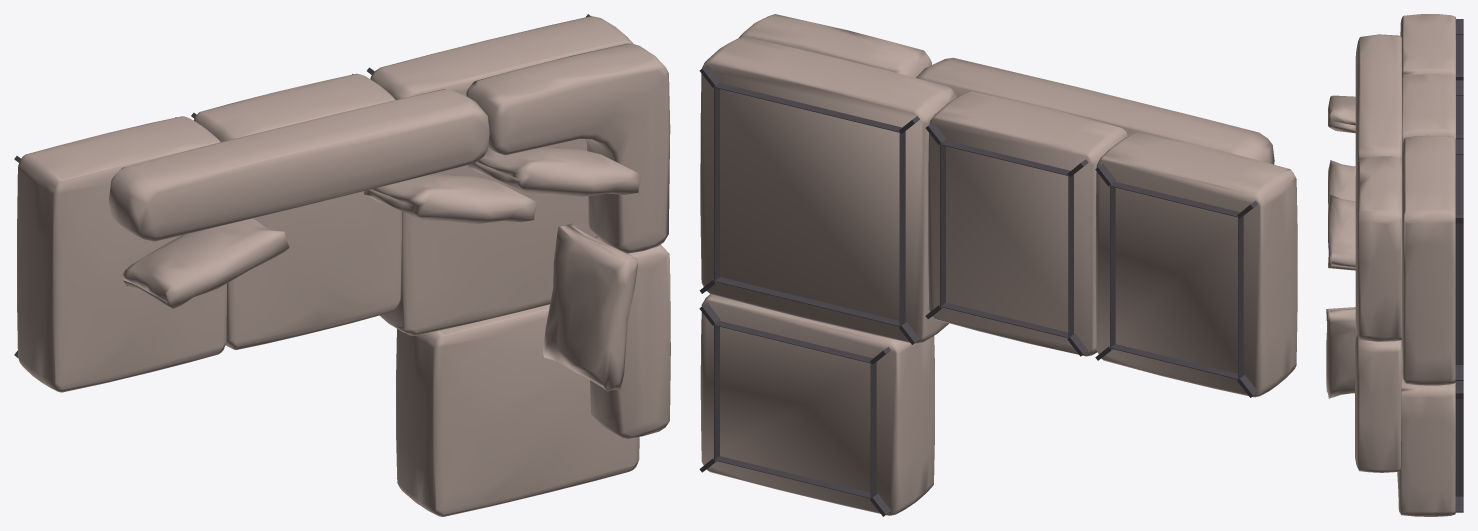
Rendered from Parrot.glb.
The picture shows the model from 3 angles, left to right: view 1: azimuth 30°, elevation 25°; view 2: azimuth 150°, elevation 25°; view 3: azimuth 270°, elevation 25°; orthographic projection. The views are drawn at different scales.
Parts seen in each view (by area): view 1: L_594b06c4_63f0_485b_8664_5ccdcf2e993d_I14, L_8cf35c48_3239_4f79_9a22_60aa4dd015a3_I20, L_2614d5d7_c631_4aa6_94bc_edb34c78e4ee_I9, L_efd06f64_41bd_460b_8718_c4c33e4c71d6_I31, L_261ee8a2_78b9_47fb_a6fe_fc62199f7588_I10, L_221fb735_03ea_4fa2_a80d_ea1f8b97598d_I7, L_029ab708_6cad_4b00_af2a_f2933ccbcbb8_I3, L_dd7c1530_8edc_4b20_8405_1316ed271719_I28, L_0046bf21_b53f_4bab_b80b_8ea3cc8280a4_I1, L_537c408a_1556_44a0_be7a_a182e75f59e9_I13, L_acc984e9_0675_4432_9851_a54c7ba42bc2_I22; view 2: L_efd06f64_41bd_460b_8718_c4c33e4c71d6_I31, L_594b06c4_63f0_485b_8664_5ccdcf2e993d_I14, L_8cf35c48_3239_4f79_9a22_60aa4dd015a3_I20, L_261ee8a2_78b9_47fb_a6fe_fc62199f7588_I10, L_2614d5d7_c631_4aa6_94bc_edb34c78e4ee_I9, L_221fb735_03ea_4fa2_a80d_ea1f8b97598d_I7, L_5b79f8d1_a19a_4aa8_977f_06617371b1d9_I15, L_245f8d1b_f5d0_4769_9f34_3902b449c203_I8, L_c2553057_cba3_490b_a04a_85a055e09ebf_I24, L_dc044cc1_bc70_4523_bd09_ccc420cd1a8d_I27; view 3: L_efd06f64_41bd_460b_8718_c4c33e4c71d6_I31, L_221fb735_03ea_4fa2_a80d_ea1f8b97598d_I7, L_8cf35c48_3239_4f79_9a22_60aa4dd015a3_I20, L_dd7c1530_8edc_4b20_8405_1316ed271719_I28, L_2614d5d7_c631_4aa6_94bc_edb34c78e4ee_I9, L_261ee8a2_78b9_47fb_a6fe_fc62199f7588_I10, L_594b06c4_63f0_485b_8664_5ccdcf2e993d_I14, L_029ab708_6cad_4b00_af2a_f2933ccbcbb8_I3, L_537c408a_1556_44a0_be7a_a182e75f59e9_I13, L_5b79f8d1_a19a_4aa8_977f_06617371b1d9_I15, L_acc984e9_0675_4432_9851_a54c7ba42bc2_I22, L_0046bf21_b53f_4bab_b80b_8ea3cc8280a4_I1 (+3 smaller).
Part boxes in pixels (left/top/right/bottom): L_594b06c4_63f0_485b_8664_5ccdcf2e993d_I14: left=17, top=116, right=226, bottom=392; L_8cf35c48_3239_4f79_9a22_60aa4dd015a3_I20: left=396, top=304, right=639, bottom=516; L_2614d5d7_c631_4aa6_94bc_edb34c78e4ee_I9: left=108, top=89, right=489, bottom=241; L_efd06f64_41bd_460b_8718_c4c33e4c71d6_I31: left=370, top=16, right=633, bottom=335; L_261ee8a2_78b9_47fb_a6fe_fc62199f7588_I10: left=193, top=73, right=401, bottom=349; L_221fb735_03ea_4fa2_a80d_ea1f8b97598d_I7: left=466, top=43, right=670, bottom=253; L_029ab708_6cad_4b00_af2a_f2933ccbcbb8_I3: left=543, top=223, right=637, bottom=391; L_dd7c1530_8edc_4b20_8405_1316ed271719_I28: left=590, top=236, right=670, bottom=438; L_0046bf21_b53f_4bab_b80b_8ea3cc8280a4_I1: left=122, top=218, right=289, bottom=308; L_537c408a_1556_44a0_be7a_a182e75f59e9_I13: left=468, top=147, right=641, bottom=196; L_acc984e9_0675_4432_9851_a54c7ba42bc2_I22: left=363, top=173, right=536, bottom=223; L_efd06f64_41bd_460b_8718_c4c33e4c71d6_I31: left=700, top=37, right=956, bottom=343; L_594b06c4_63f0_485b_8664_5ccdcf2e993d_I14: left=1095, top=132, right=1297, bottom=397; L_8cf35c48_3239_4f79_9a22_60aa4dd015a3_I20: left=700, top=294, right=934, bottom=515; L_261ee8a2_78b9_47fb_a6fe_fc62199f7588_I10: left=928, top=91, right=1127, bottom=356; L_2614d5d7_c631_4aa6_94bc_edb34c78e4ee_I9: left=916, top=57, right=1274, bottom=164; L_221fb735_03ea_4fa2_a80d_ea1f8b97598d_I7: left=739, top=14, right=931, bottom=77; L_5b79f8d1_a19a_4aa8_977f_06617371b1d9_I15: left=714, top=83, right=905, bottom=326; L_245f8d1b_f5d0_4769_9f34_3902b449c203_I8: left=714, top=321, right=876, bottom=498; L_c2553057_cba3_490b_a04a_85a055e09ebf_I24: left=940, top=140, right=1073, bottom=338; L_dc044cc1_bc70_4523_bd09_ccc420cd1a8d_I27: left=1110, top=181, right=1243, bottom=379; L_efd06f64_41bd_460b_8718_c4c33e4c71d6_I31: left=1402, top=135, right=1455, bottom=385; L_221fb735_03ea_4fa2_a80d_ea1f8b97598d_I7: left=1355, top=156, right=1401, bottom=341; L_8cf35c48_3239_4f79_9a22_60aa4dd015a3_I20: left=1397, top=340, right=1455, bottom=516; L_dd7c1530_8edc_4b20_8405_1316ed271719_I28: left=1355, top=334, right=1401, bottom=472; L_2614d5d7_c631_4aa6_94bc_edb34c78e4ee_I9: left=1355, top=34, right=1401, bottom=170; L_261ee8a2_78b9_47fb_a6fe_fc62199f7588_I10: left=1402, top=74, right=1455, bottom=173; L_594b06c4_63f0_485b_8664_5ccdcf2e993d_I14: left=1400, top=14, right=1455, bottom=77; L_029ab708_6cad_4b00_af2a_f2933ccbcbb8_I3: left=1326, top=307, right=1357, bottom=398; L_537c408a_1556_44a0_be7a_a182e75f59e9_I13: left=1328, top=195, right=1355, bottom=270; L_5b79f8d1_a19a_4aa8_977f_06617371b1d9_I15: left=1455, top=155, right=1463, bottom=364; L_acc984e9_0675_4432_9851_a54c7ba42bc2_I22: left=1328, top=160, right=1355, bottom=204; L_0046bf21_b53f_4bab_b80b_8ea3cc8280a4_I1: left=1328, top=95, right=1355, bottom=133.
Size of the model in its own units: 3012 by 2125 by 857.
